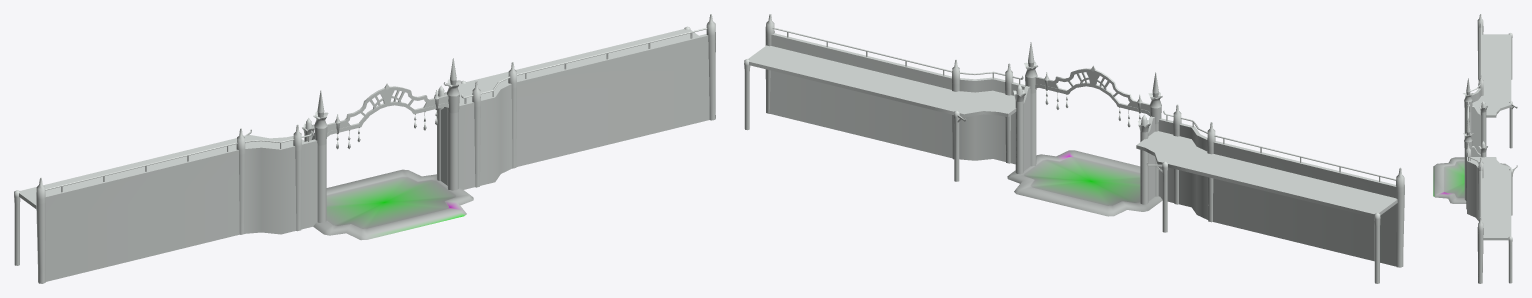
3 views of the same model, side by side, from view 1: azimuth 30°, elevation 25°; view 2: azimuth 150°, elevation 25°; view 3: azimuth 270°, elevation 25° (orthographic). The views are drawn at different scales.
Parts seen in each view (by area): view 1: G:\FFXIV-MapTools\exports\f1f1\bg\ffxiv\fst_f1\fld\f1f1\bgpa (×6); view 2: G:\FFXIV-MapTools\exports\f1f1\bg\ffxiv\fst_f1\fld\f1f1\bgpa (×6); view 3: G:\FFXIV-MapTools\exports\f1f1\bg\ffxiv\fst_f1\fld\f1f1\bgpa (×6).
Boxes of the visible parts, x1,y1,x2,y2 form: G:\FFXIV-MapTools\exports\f1f1\bg\ffxiv\fst_f1\fld\f1f1\bgpa (×6): (14, 14, 715, 283); G:\FFXIV-MapTools\exports\f1f1\bg\ffxiv\fst_f1\fld\f1f1\bgpa (×6): (744, 14, 1404, 283); G:\FFXIV-MapTools\exports\f1f1\bg\ffxiv\fst_f1\fld\f1f1\bgpa (×6): (1433, 14, 1517, 283).
Bounding box in the file's own units: 32.36 × 6.07 × 5.6.
